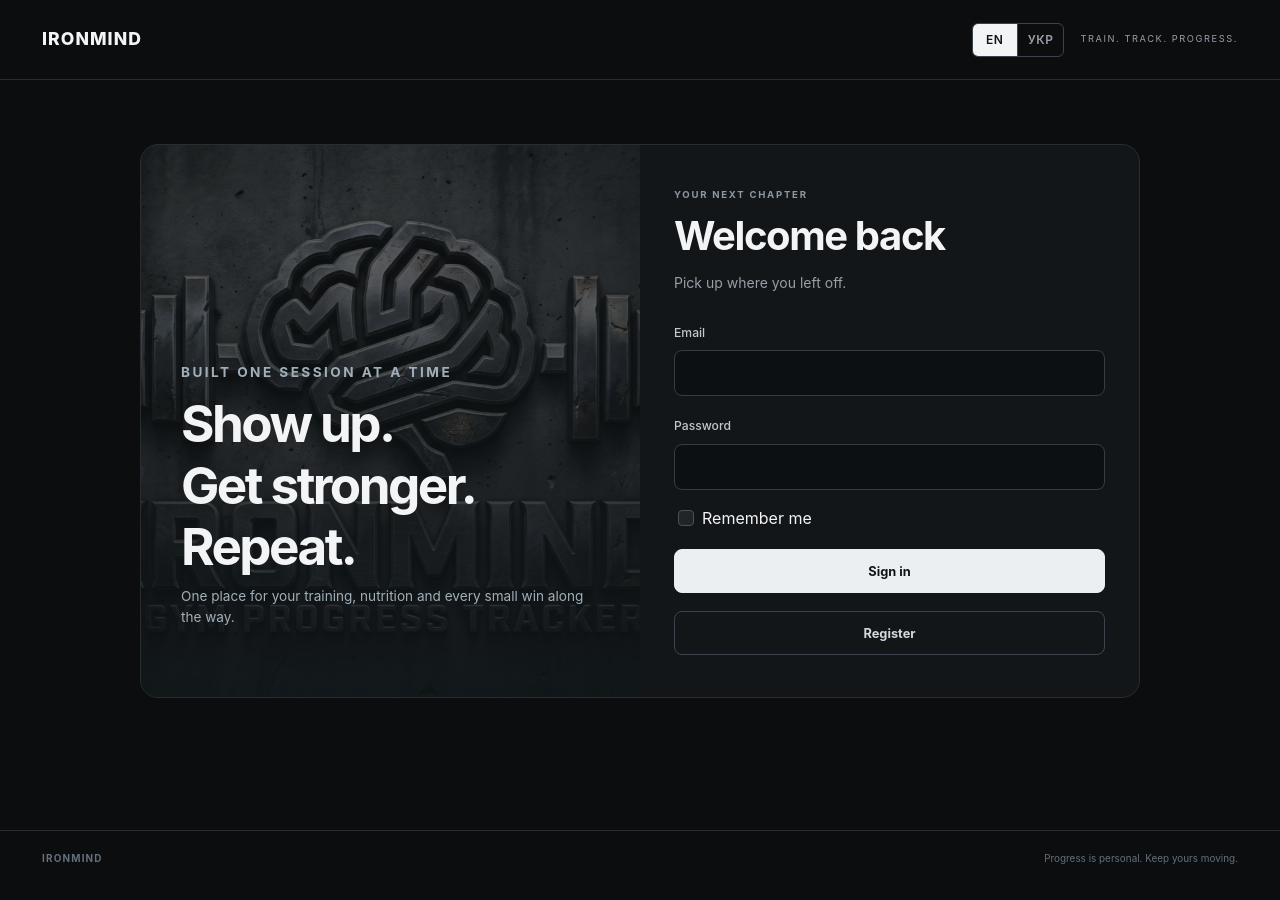
Test case: app › sends a visitor to sign in and back to the page they asked for
Expected: the heading "Welcome back" is shown, [674,211,945,260]
Type "athlete@example.com" into the field labelled "Email" at (890, 373), box [674,350,1105,396]
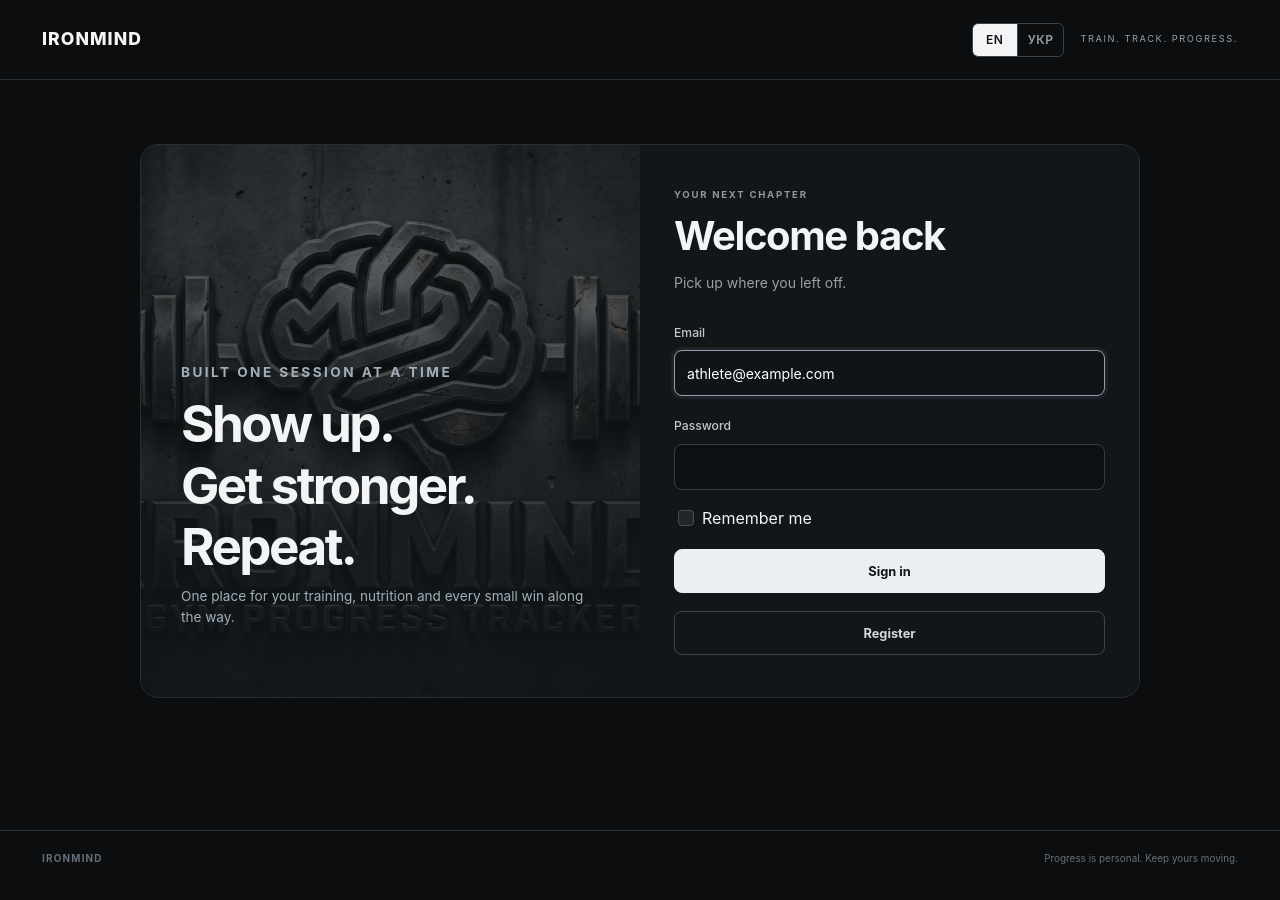
Type "TrainingPassword123!" into the password field labelled "Password" at (890, 467), box [674,444,1105,490]
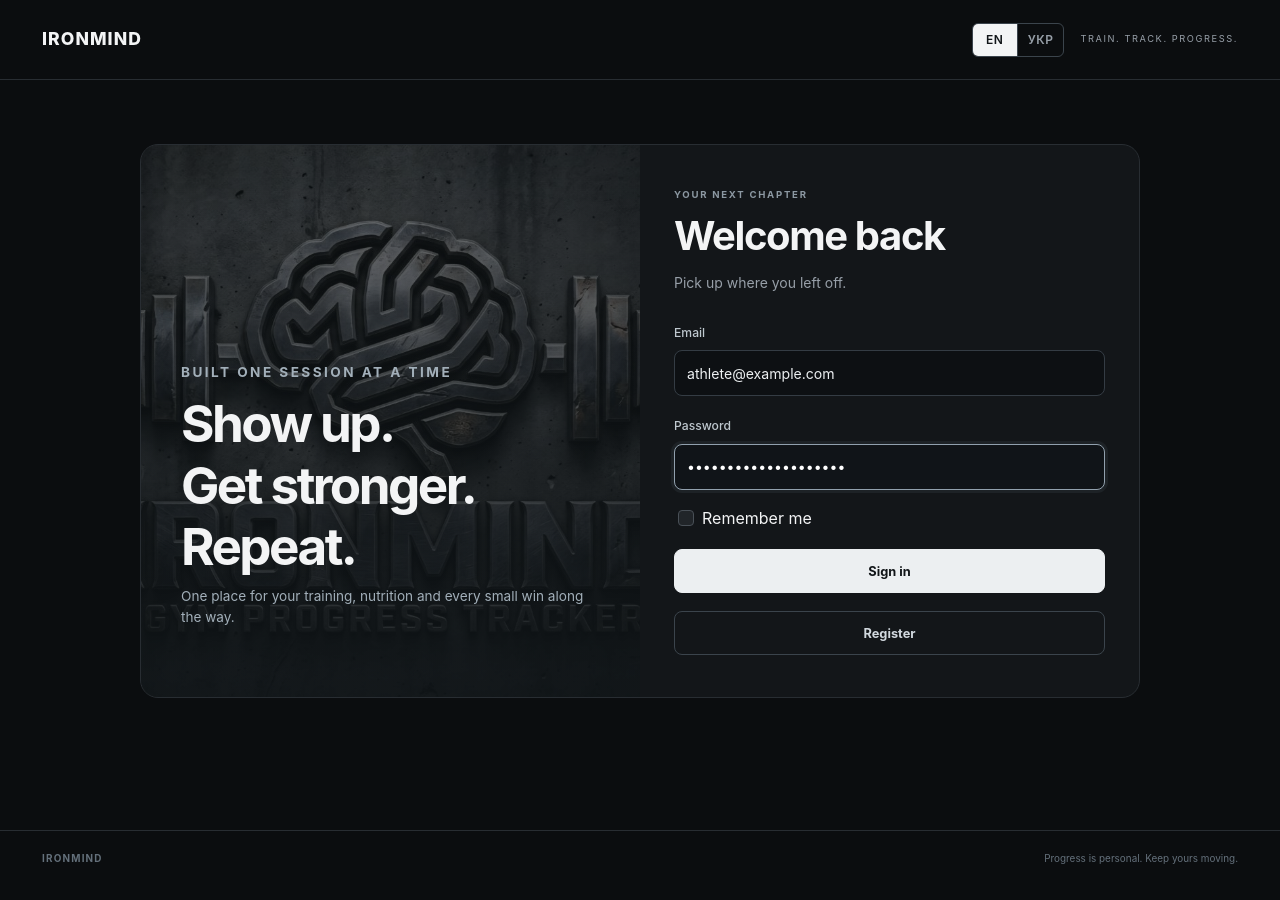
Click the button "Sign in" at (890, 571), box [674,549,1105,593]
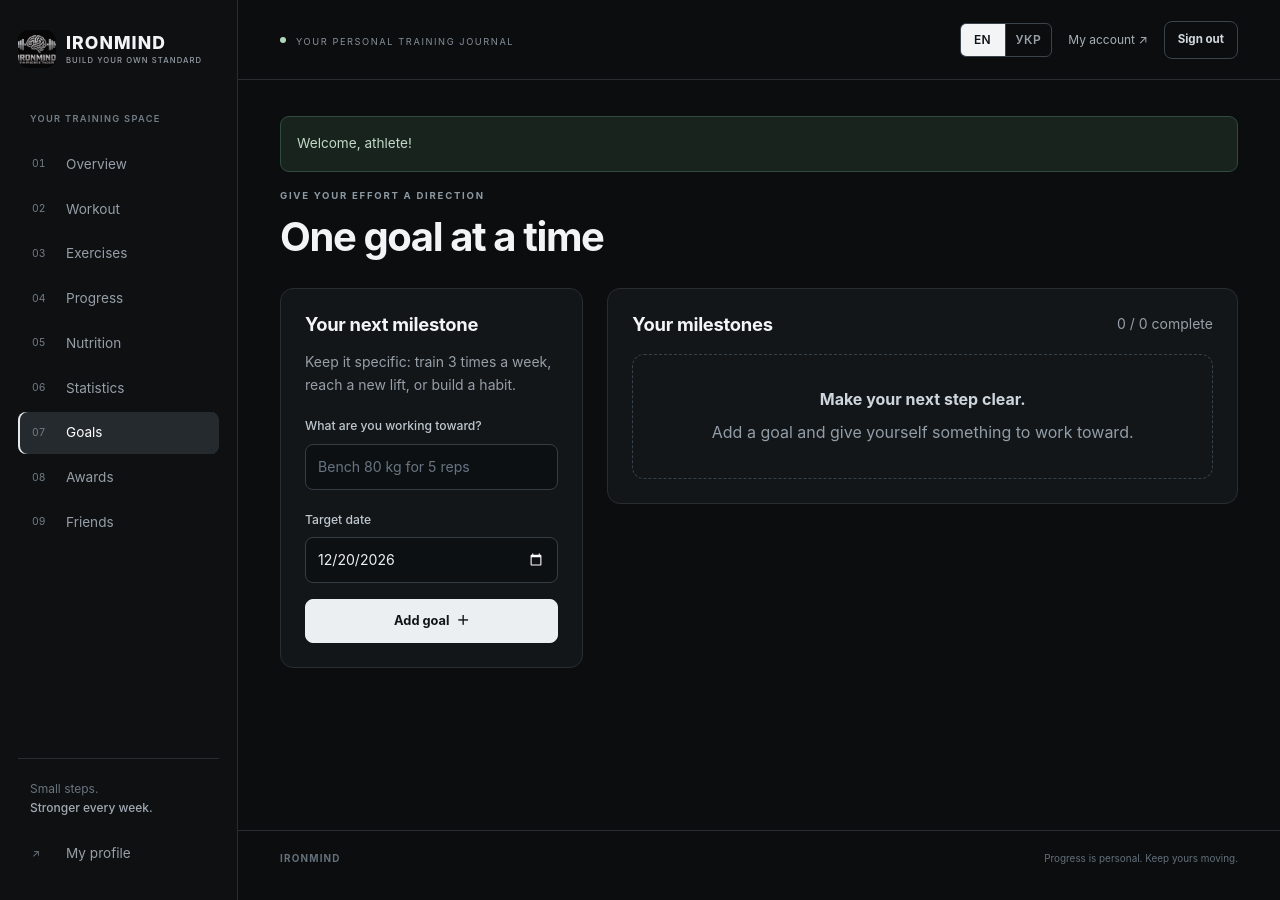
Expected: the text "Welcome, athlete!" is shown, [280,116,1238,172]
Expected: the text "Make your next step clear." is shown, [820,389,1026,409]
